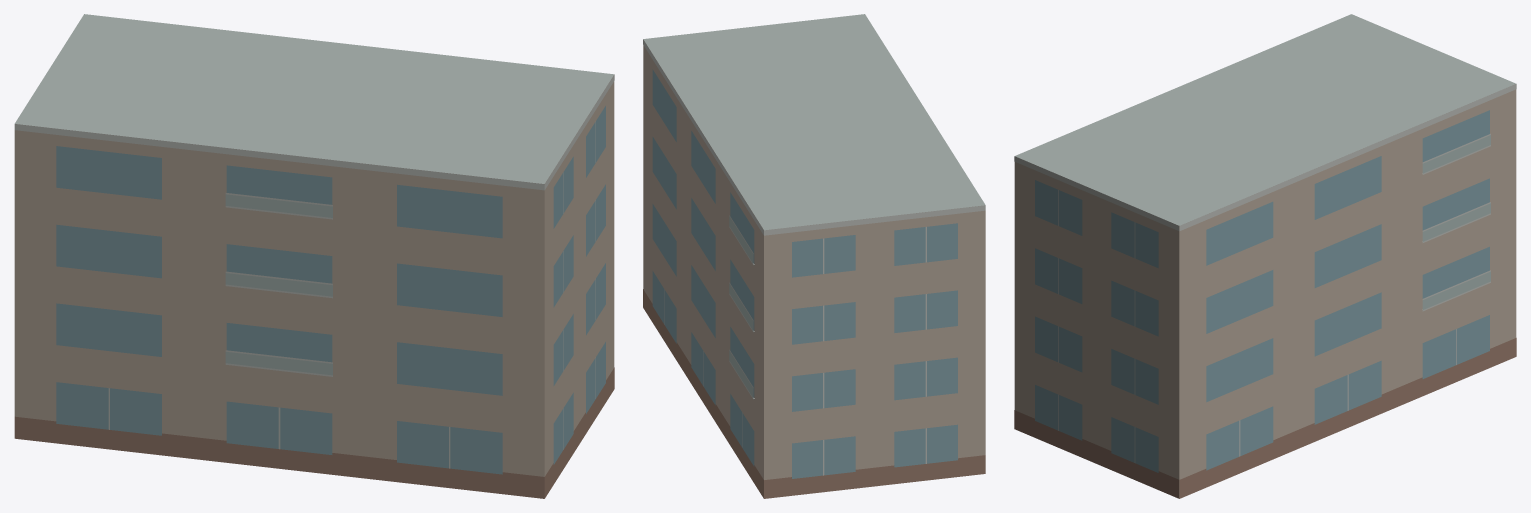
File: residential-0a3773be-9b9c-43ab-9aa8-20ba874bb6af.glb
3 renders of one model, left to right at view 1: azimuth 30°, elevation 25°; view 2: azimuth 150°, elevation 25°; view 3: azimuth 270°, elevation 25°, orthographic. The views are drawn at different scales.
Parts seen in each view (by area): view 1: residential-0a3773be-9b9c-43ab-9aa8-20ba874bb6af.tmp; view 2: residential-0a3773be-9b9c-43ab-9aa8-20ba874bb6af.tmp; view 3: residential-0a3773be-9b9c-43ab-9aa8-20ba874bb6af.tmp.
Part boxes in pixels (x1,y1,x2,y2): residential-0a3773be-9b9c-43ab-9aa8-20ba874bb6af.tmp: (14, 14, 614, 498); residential-0a3773be-9b9c-43ab-9aa8-20ba874bb6af.tmp: (643, 14, 985, 498); residential-0a3773be-9b9c-43ab-9aa8-20ba874bb6af.tmp: (1014, 14, 1516, 498).
Size of the model in its own units: 20.32 by 12.2 by 20.34.
